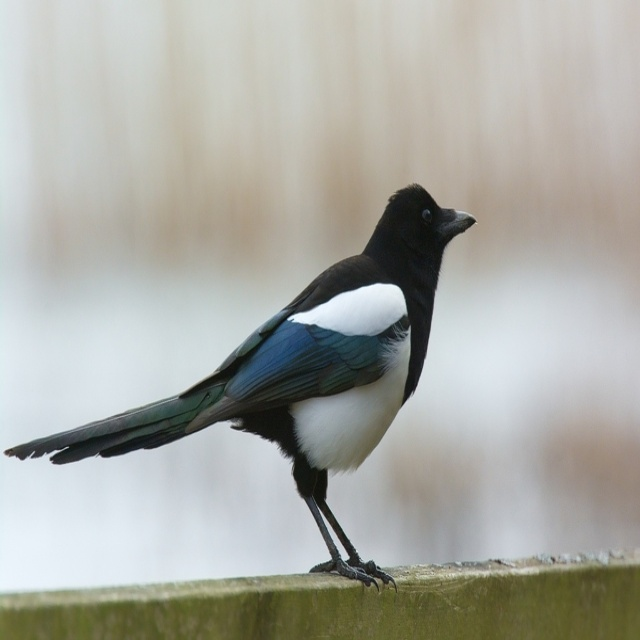Magpie: (1, 181, 476, 594)
